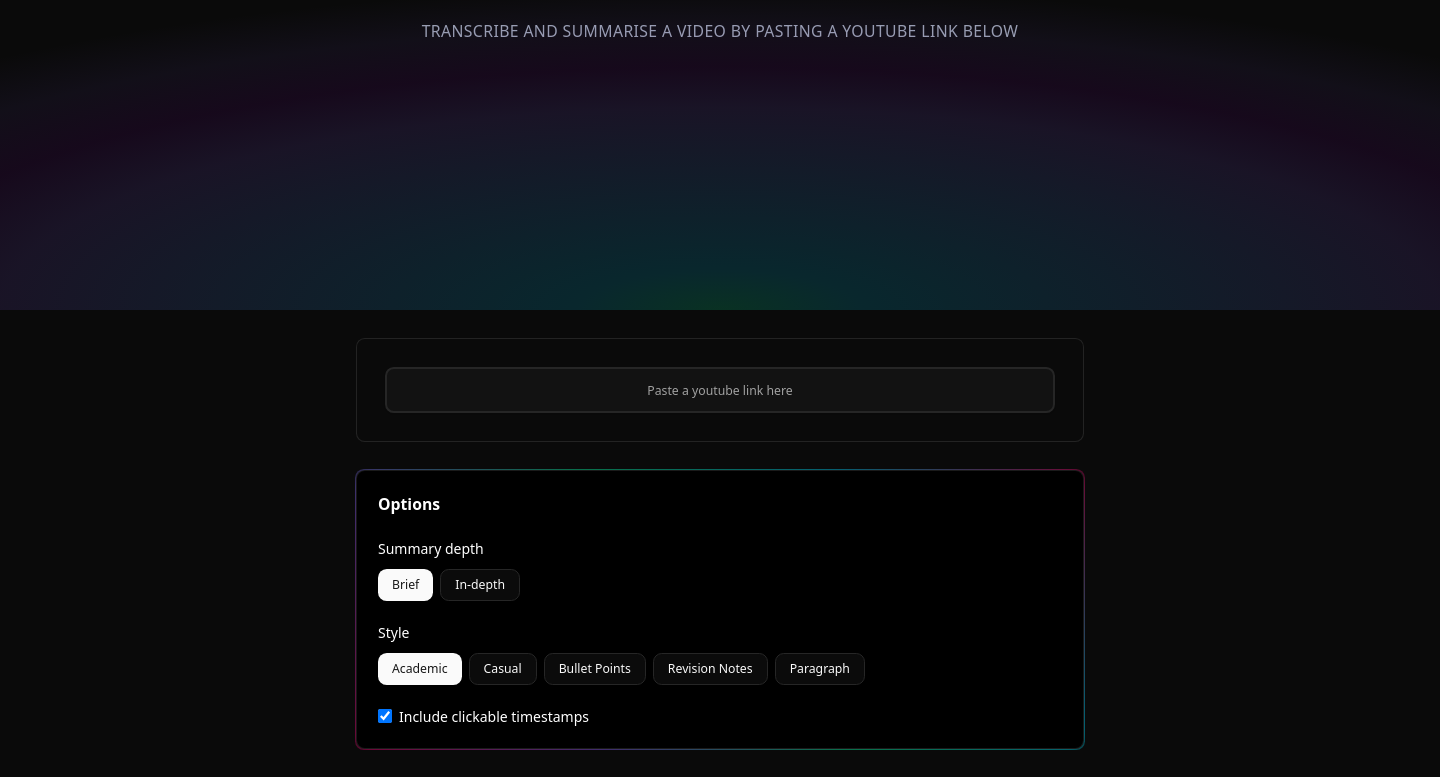
summarise button › should be disabled when the input is empty and enabled when the input is not empty
The width and height of the screenshot is (1440, 777).
(page scrolled)
Type "https://www.youtube.com/watch?v=dQw4w9WgXcQ" into the field with placeholder "Paste a youtube link here". click: point(720, 390)
box: [385,367,1055,413]
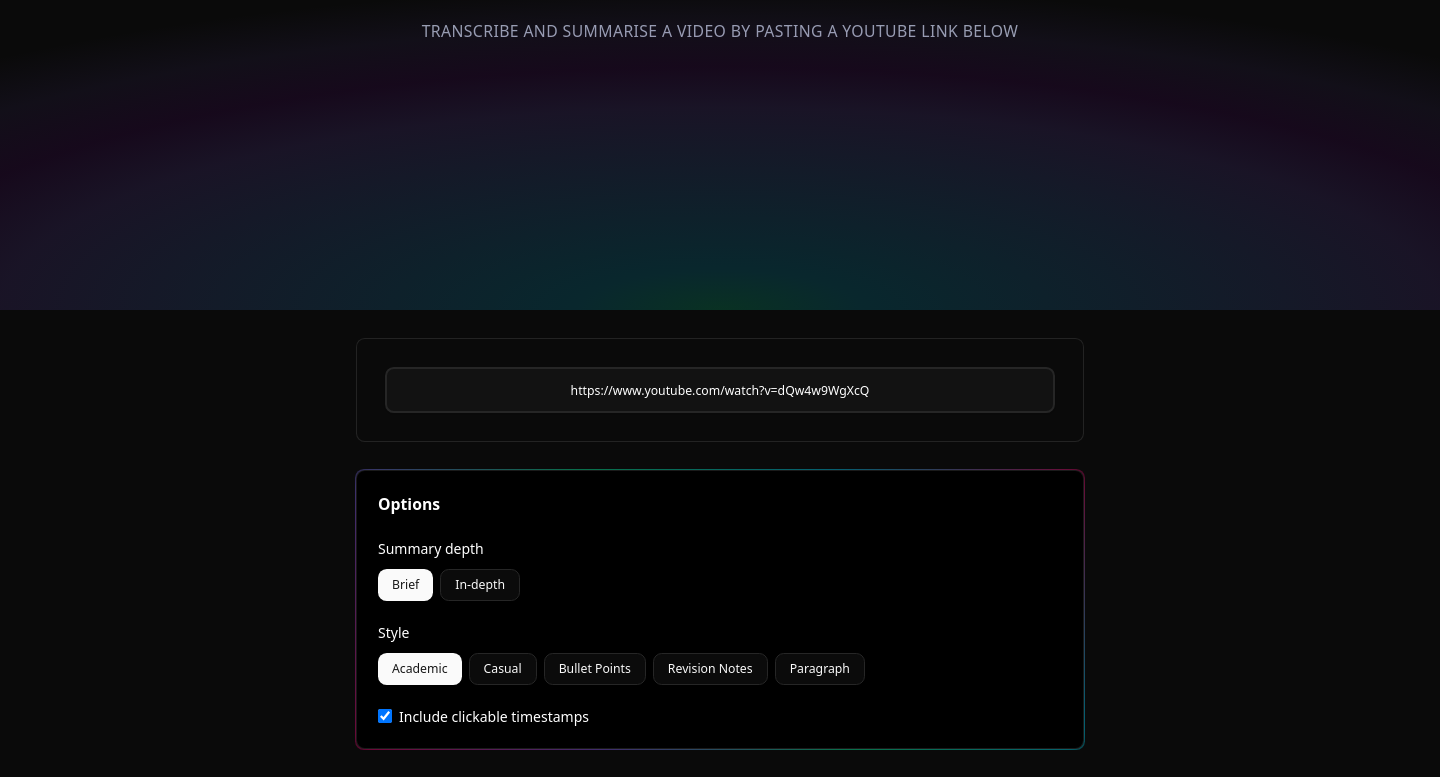
Clear the field with placeholder "Paste a youtube link here". click: point(720, 390)
box: [385,367,1055,413]
(page scrolled)
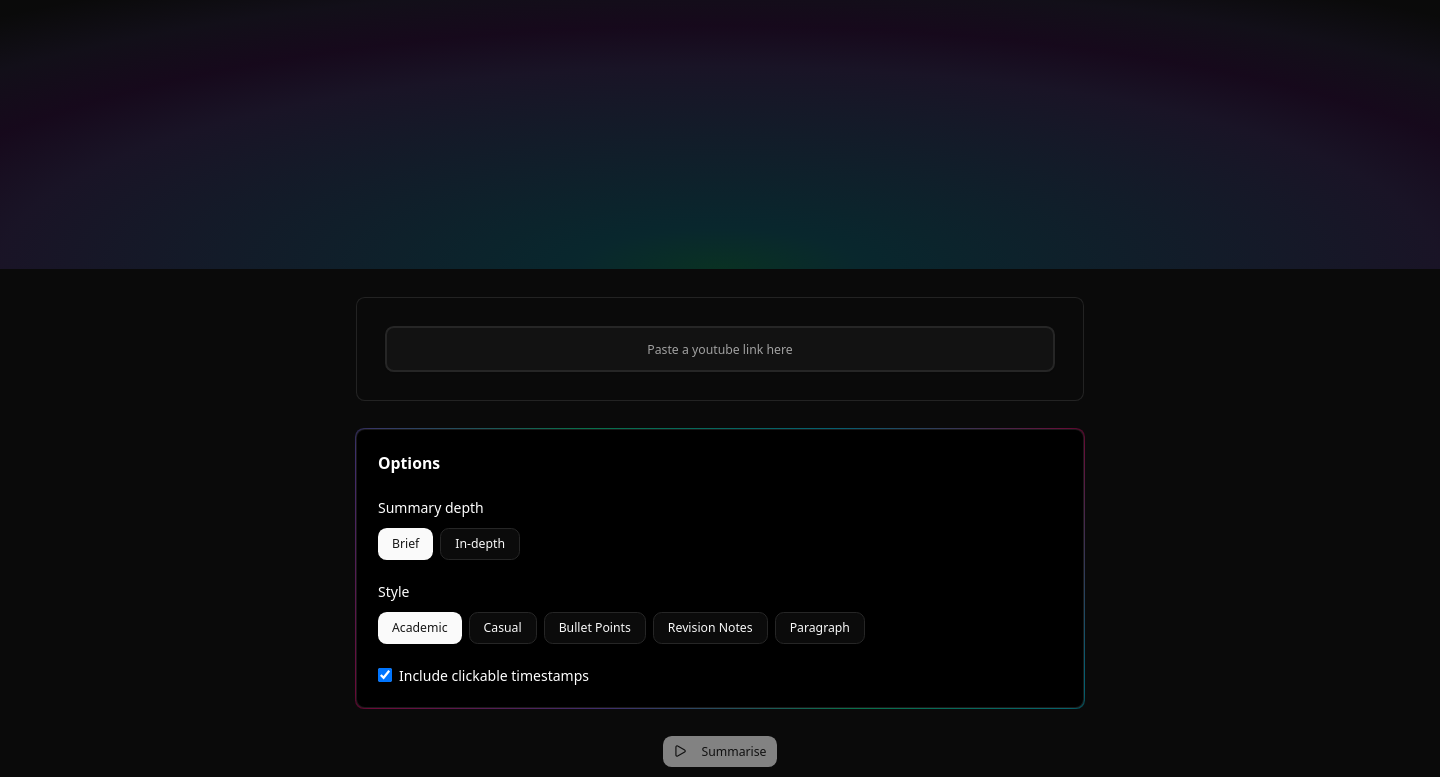
Check: the button "Summarise" is disabled, box [663,736,777,767]
